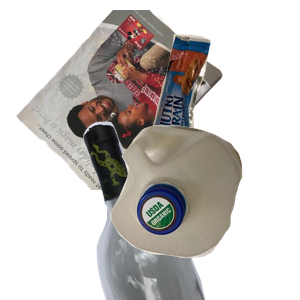glass: (81, 120, 300, 300)
paper: (14, 10, 229, 190)
plastic: (108, 123, 300, 300)
trash: (149, 31, 300, 179)
